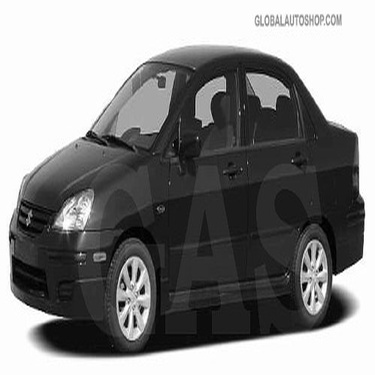car: (11, 37, 365, 329)
